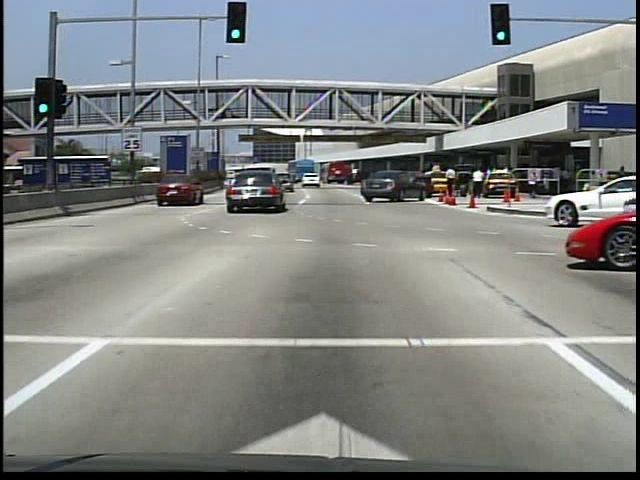person: (443, 166, 460, 204), (468, 169, 485, 202), (523, 168, 539, 201), (218, 102, 227, 122)
